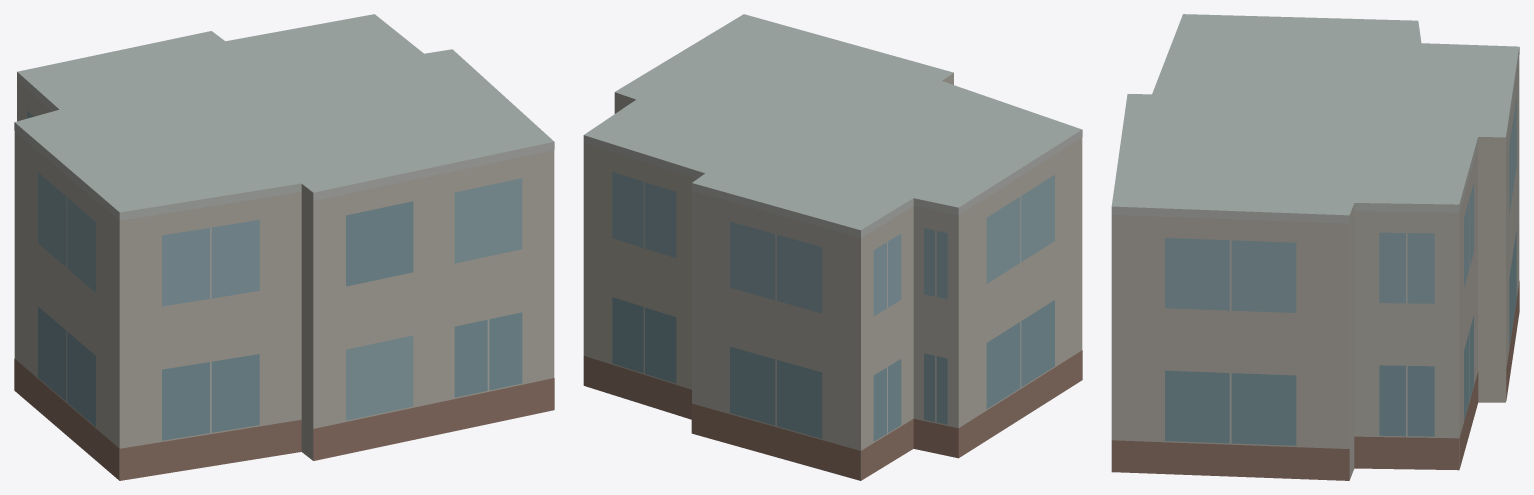
File: survey-upis-33042174.glb
3 renders of one model, left to right at view 1: azimuth 30°, elevation 25°; view 2: azimuth 150°, elevation 25°; view 3: azimuth 270°, elevation 25°, orthographic. The views are drawn at different scales.
Visible parts, largest first — view 1: survey-upis-33042174.tmp; view 2: survey-upis-33042174.tmp; view 3: survey-upis-33042174.tmp.
Boxes of the visible parts, x1,y1,x2,y2 form: survey-upis-33042174.tmp: (14, 14, 554, 480); survey-upis-33042174.tmp: (583, 14, 1082, 480); survey-upis-33042174.tmp: (1111, 14, 1519, 480).
Bounding box in the file's own units: 12.85 × 7.9 × 11.01.
